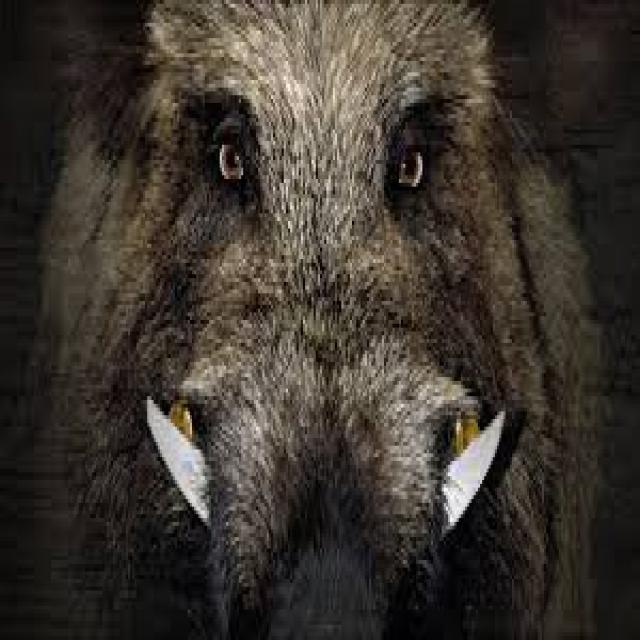Boar: (3, 2, 635, 627)
